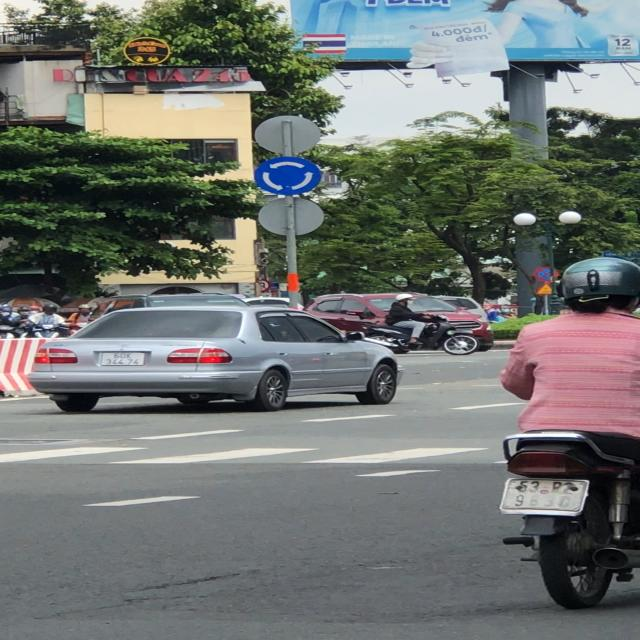Bien bao noi giao nhau chay theo vong xuyen: (255, 156, 321, 196)
